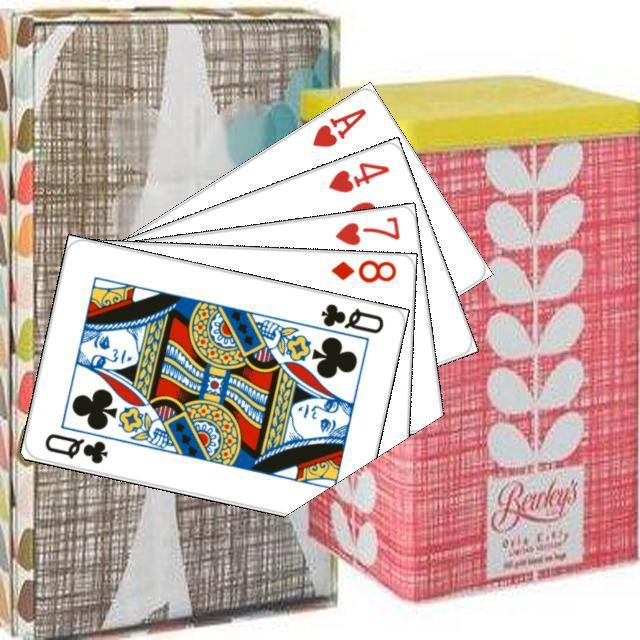4h: (323, 157, 391, 195)
7h: (330, 211, 402, 247)
8d: (326, 255, 397, 285)
Ah: (307, 103, 368, 150)
Qc: (306, 298, 386, 345), (39, 428, 110, 466)
